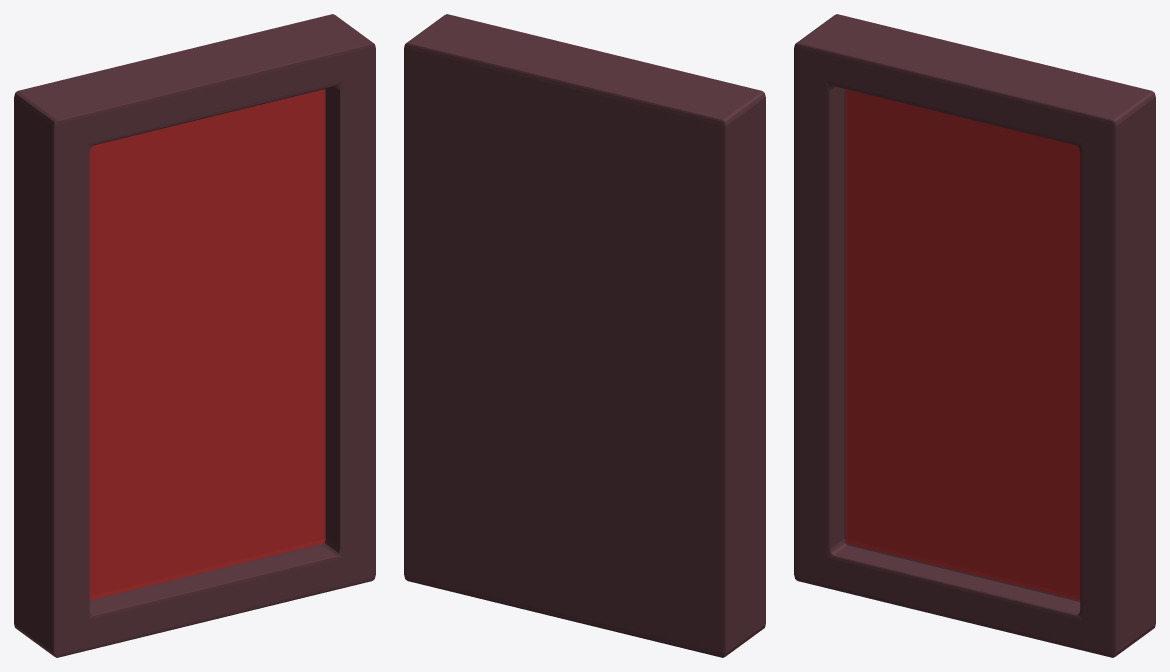
The model's file is quadros-gigante.fbx.
3 renders of one model, left to right at view 1: azimuth 30°, elevation 25°; view 2: azimuth 150°, elevation 25°; view 3: azimuth 330°, elevation 25°, orthographic.
Parts seen in each view (by area): view 1: Cube.085; view 2: Cube.085; view 3: Cube.085.
Part boxes in pixels (x1,y1,x2,y2): Cube.085: (14, 14, 375, 657); Cube.085: (404, 14, 765, 657); Cube.085: (794, 14, 1155, 657).
Bounding box in the file's own units: 111 × 177 × 24.1.
